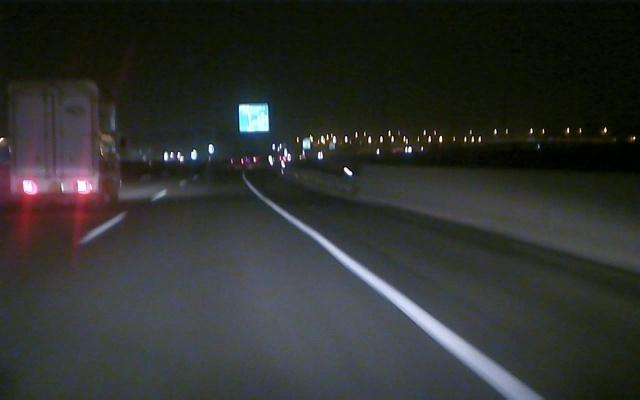lane: (265, 201, 545, 399), (74, 189, 169, 246)
